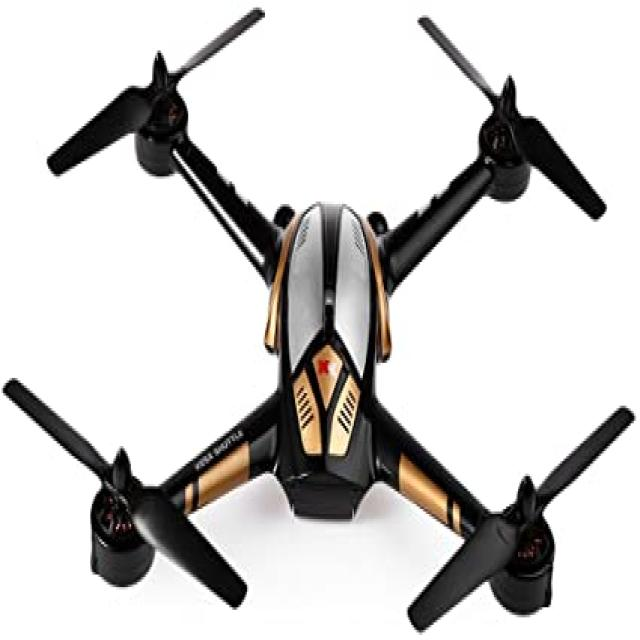drone: (21, 0, 614, 640)
